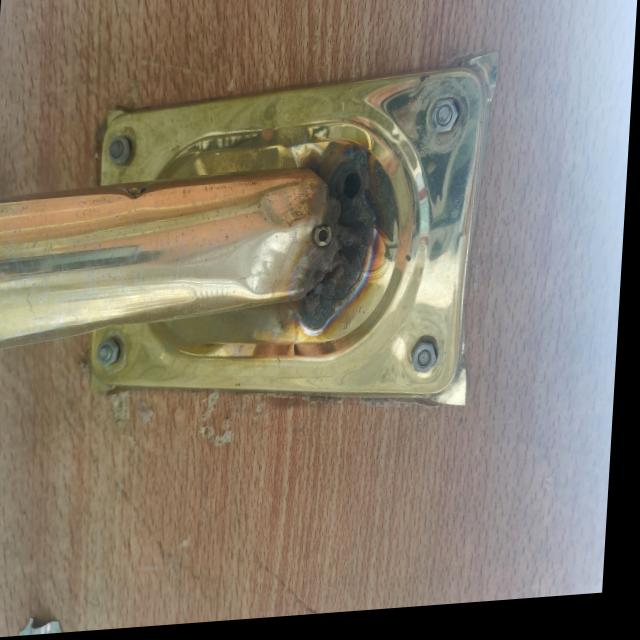Regular bolt: (432, 106, 460, 142), (415, 350, 443, 382), (109, 137, 133, 169), (100, 340, 125, 369)
